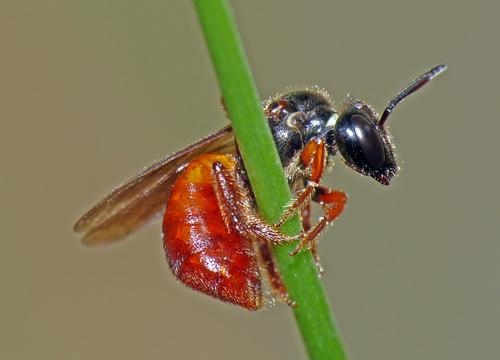Allodapula: (67, 60, 454, 320)
